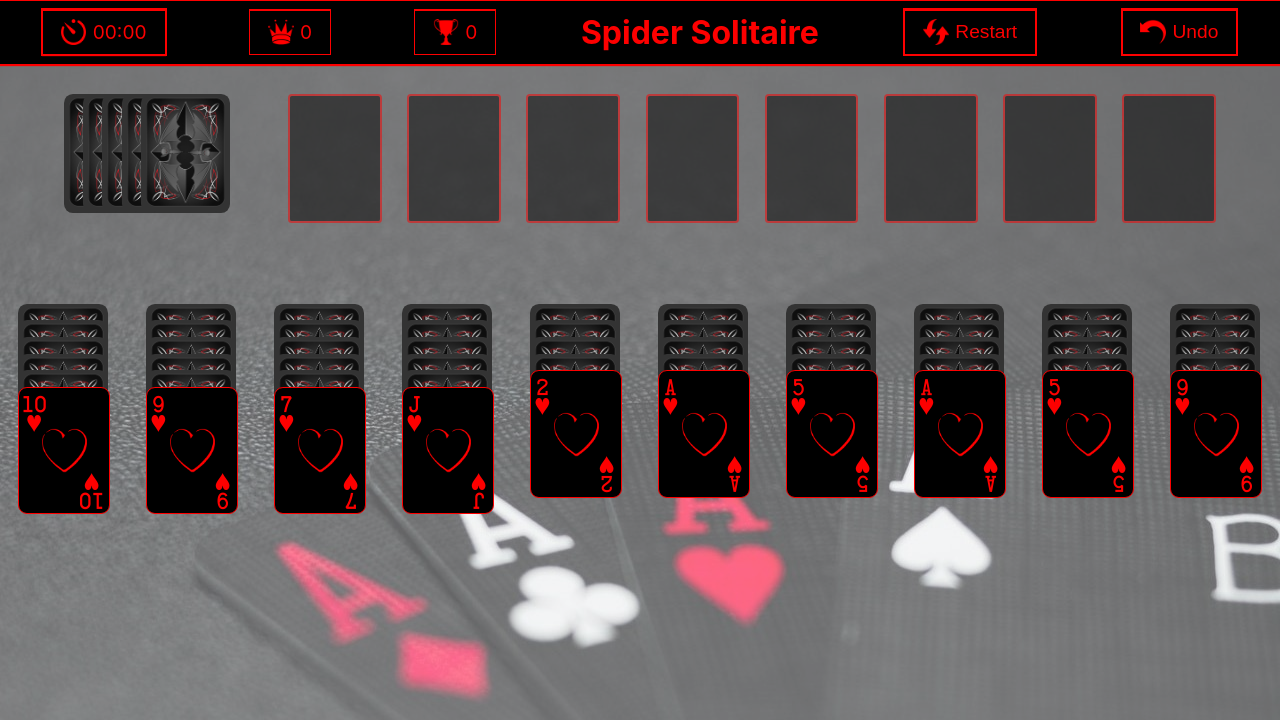
Scenario: homepage-tests › should decrease by one the deck of pile when clicking on the card distribute
Click the element with class "card-pile". click: point(112, 159)
box: [64,94,160,223]
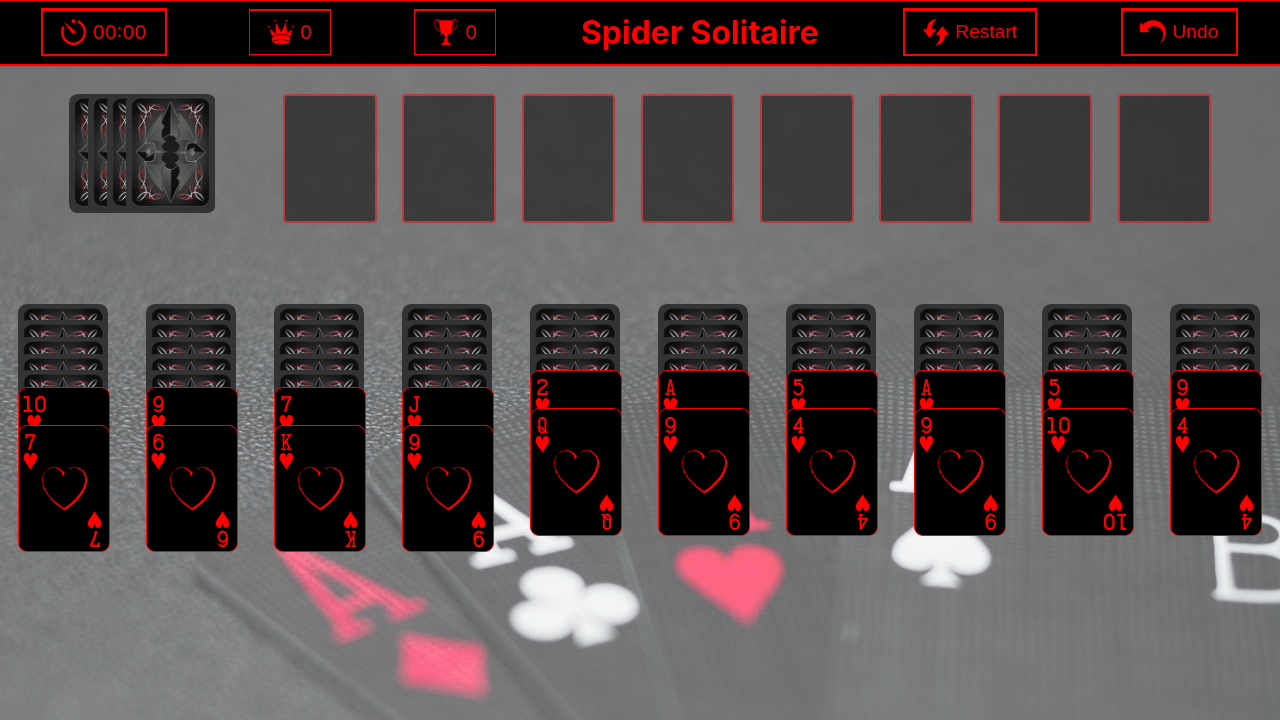
Expected: the number of elements with class "card-pile-down" is 4, [69,94,158,213]; [88,94,178,213]; [107,94,197,213]; [126,94,216,213]
